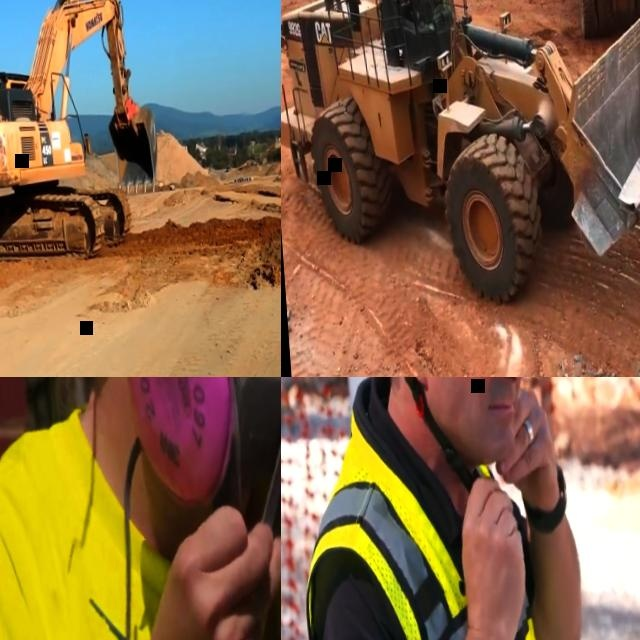Mask: (114, 377, 281, 537)
NO-Mask: (432, 377, 531, 469)
NO-Safety Vest: (0, 390, 281, 640)
Person: (281, 377, 591, 640), (0, 377, 281, 640)
Safety Vest: (290, 400, 554, 640)
machinery: (281, 0, 640, 317), (0, 0, 164, 267)
